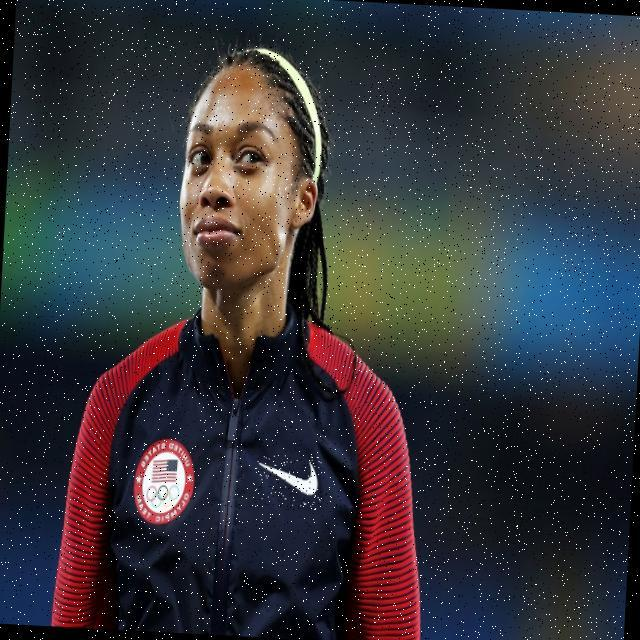Nike: (254, 453, 325, 512)
